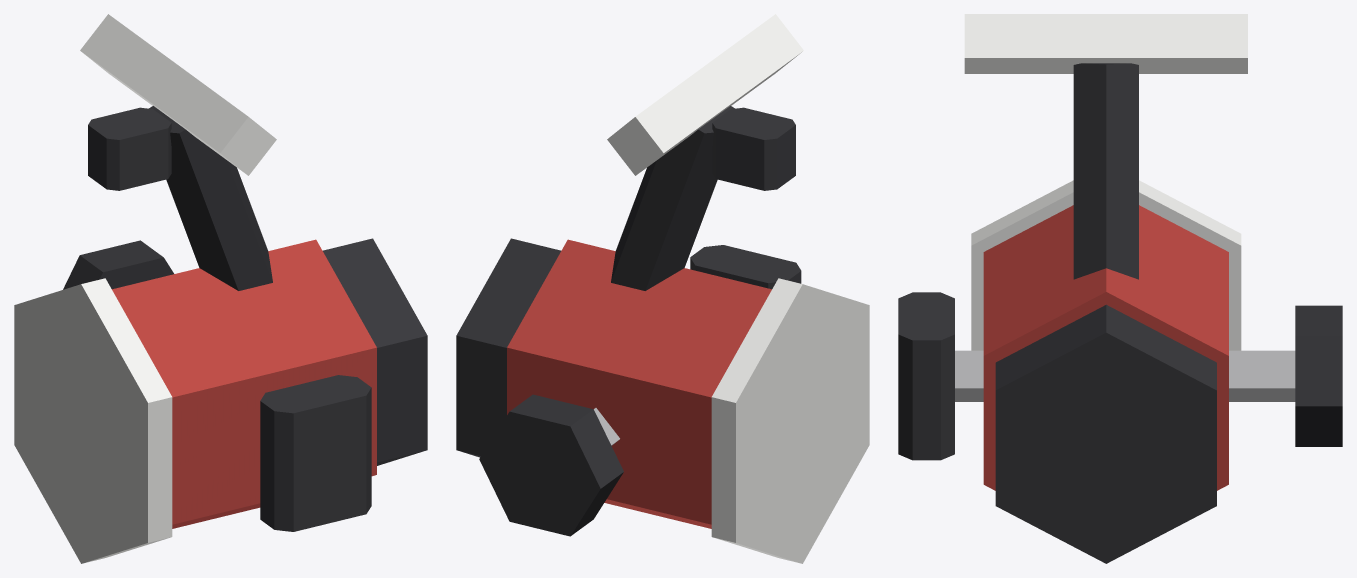
Rendered from throttle_body_lod2.glb.
3 renders of one model, left to right at view 1: azimuth 30°, elevation 25°; view 2: azimuth 150°, elevation 25°; view 3: azimuth 270°, elevation 25°, orthographic.
Visible parts, largest first — view 1: throttle_body_lod2; view 2: throttle_body_lod2; view 3: throttle_body_lod2.
Boxes of the visible parts, bbox=[...] form: throttle_body_lod2: bbox=[14, 14, 427, 563]; throttle_body_lod2: bbox=[456, 14, 869, 563]; throttle_body_lod2: bbox=[898, 14, 1342, 563].
Bounding box in the file's own units: 0.072 × 0.112 × 0.094.
